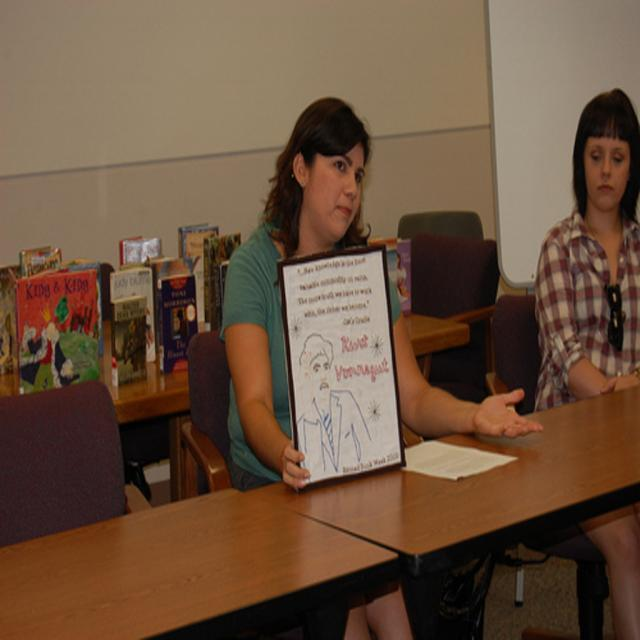chair: (0, 379, 144, 548), (408, 235, 500, 388), (180, 331, 232, 498), (491, 293, 541, 415), (397, 210, 484, 242)
desk: (2, 430, 640, 632)
person: (226, 96, 542, 488), (532, 94, 640, 640)
